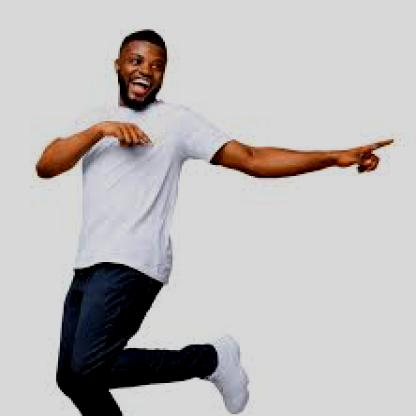Left: (344, 132, 399, 178)
